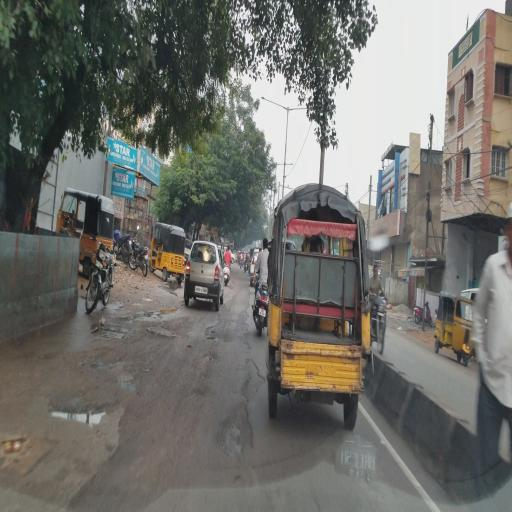street_light_0: (256, 86, 288, 118), (275, 148, 298, 174)
